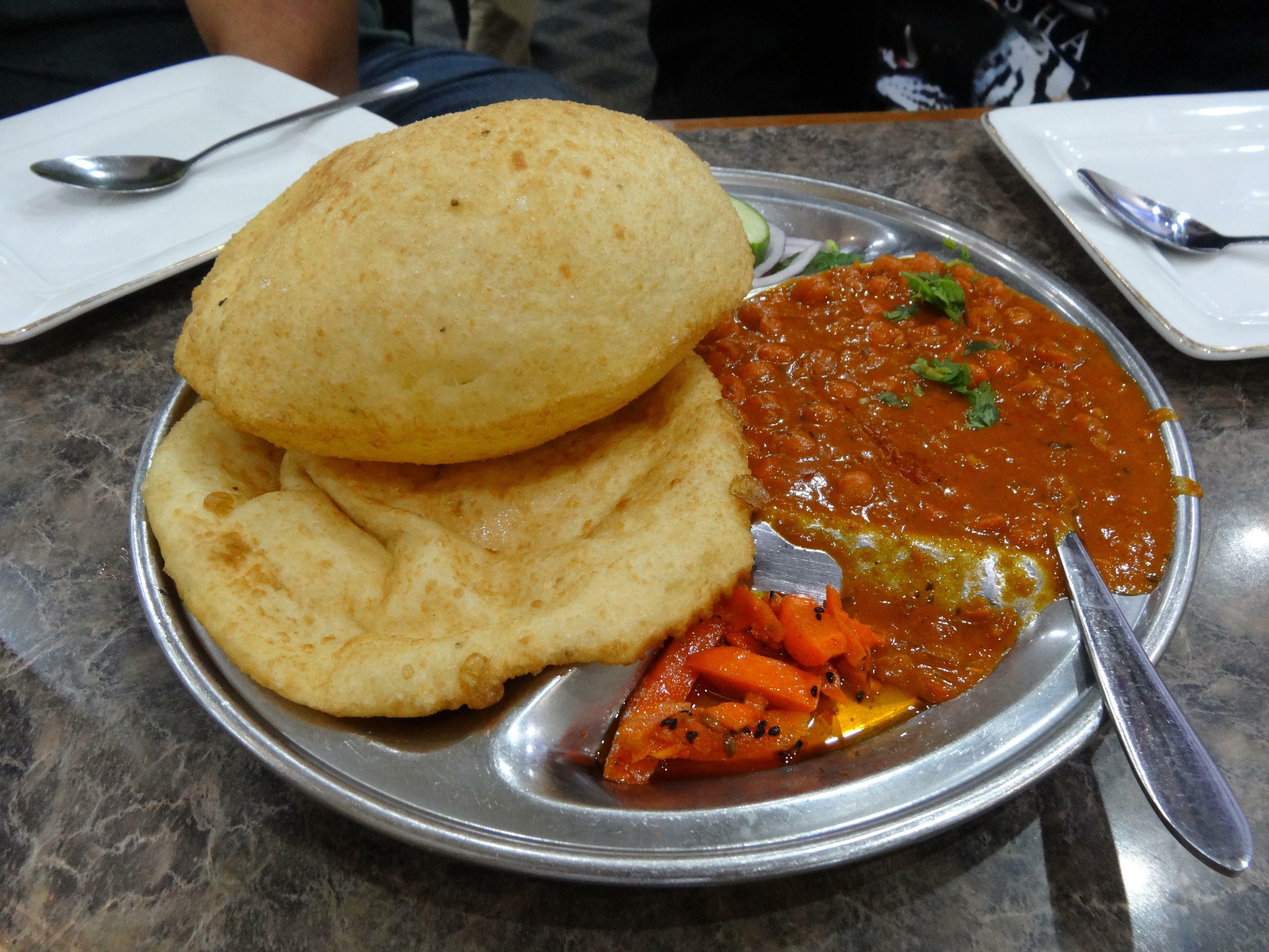Bhatura: (148, 96, 749, 693)
